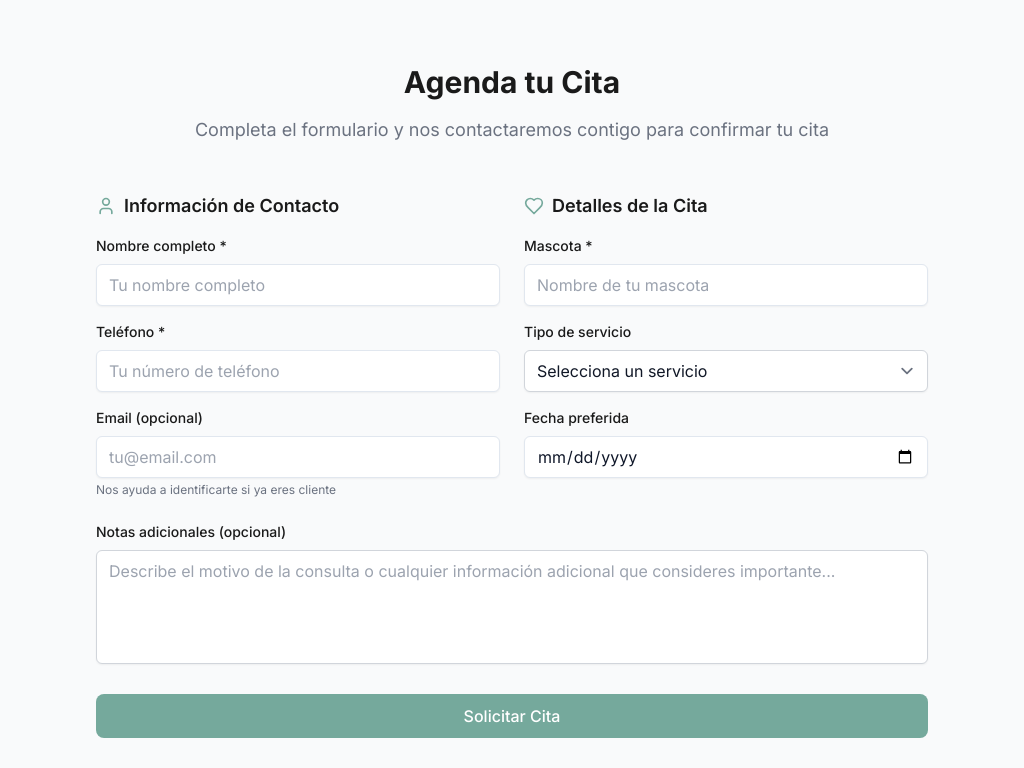
Test: QuickBooking › Form Submission › should show error state on submission failure
// Fill minimum required fields
Type "Juan García" into the field labelled "Nombre completo *" at x=298, y=285, box [96,264,500,306]
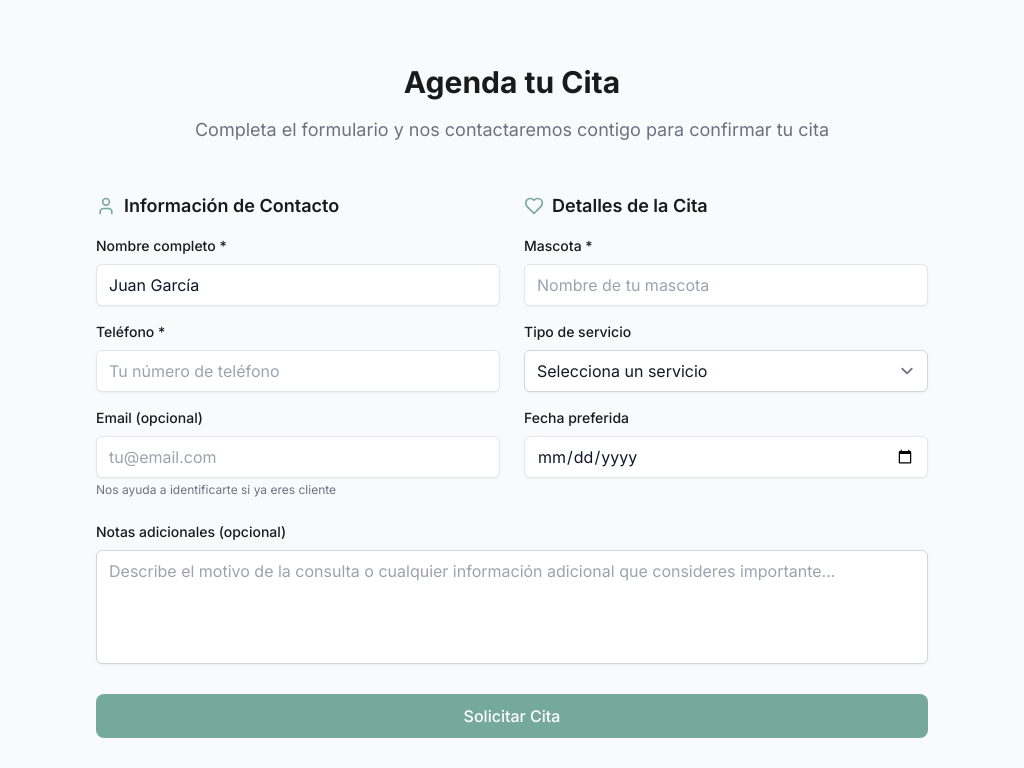
Type "5551234567" into the field labelled "Teléfono *" at x=298, y=371, box [96,350,500,392]
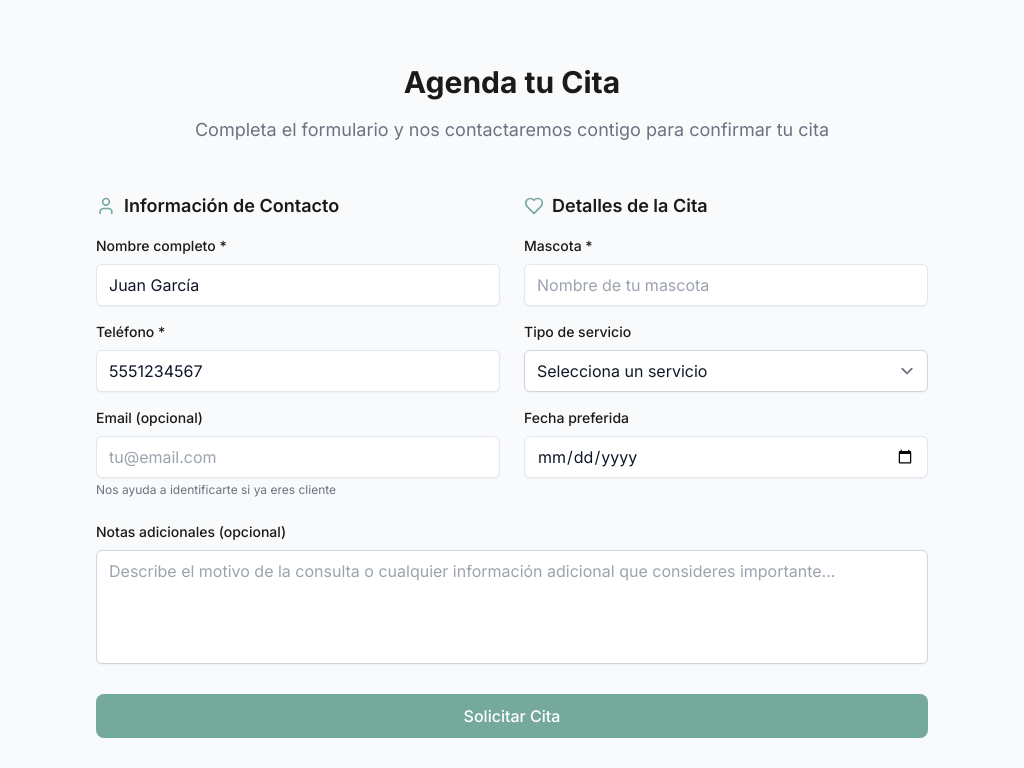
Type "Firulais" into the field with placeholder "Nombre de tu mascota" at x=726, y=285, box [524,264,928,306]
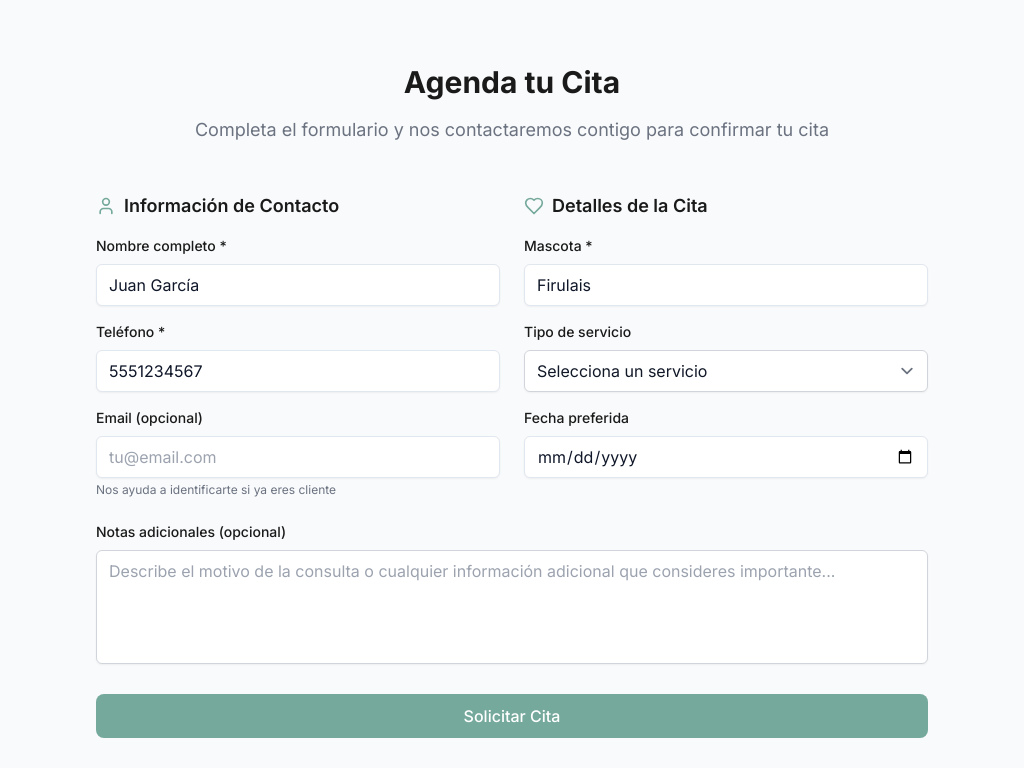
Click the button "Solicitar Cita" at x=512, y=716, box [96,694,928,738]
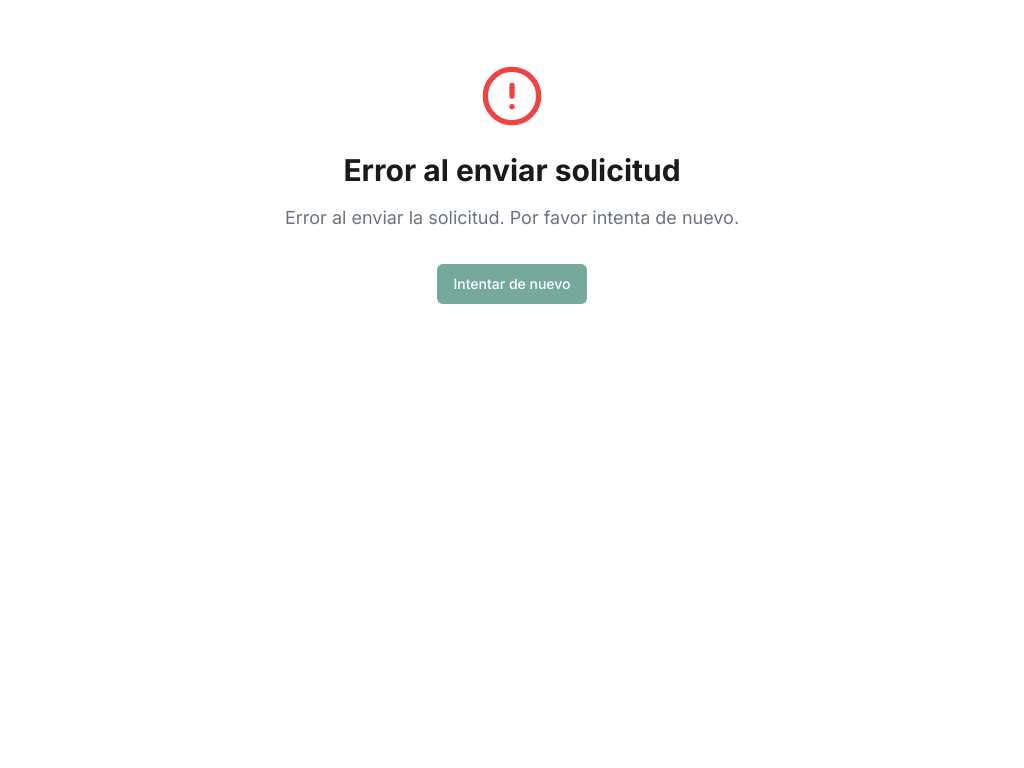
Result: the heading "Error al enviar solicitud" is shown at [343,152,681,188]
